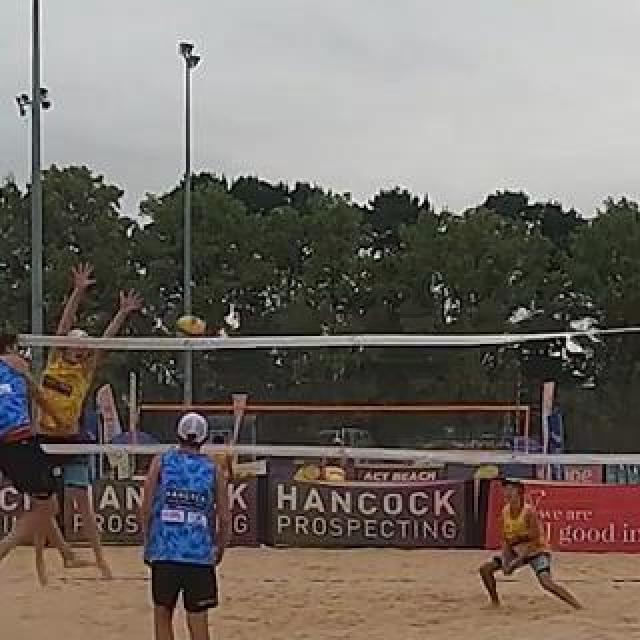volleyball: (175, 313, 207, 343)
